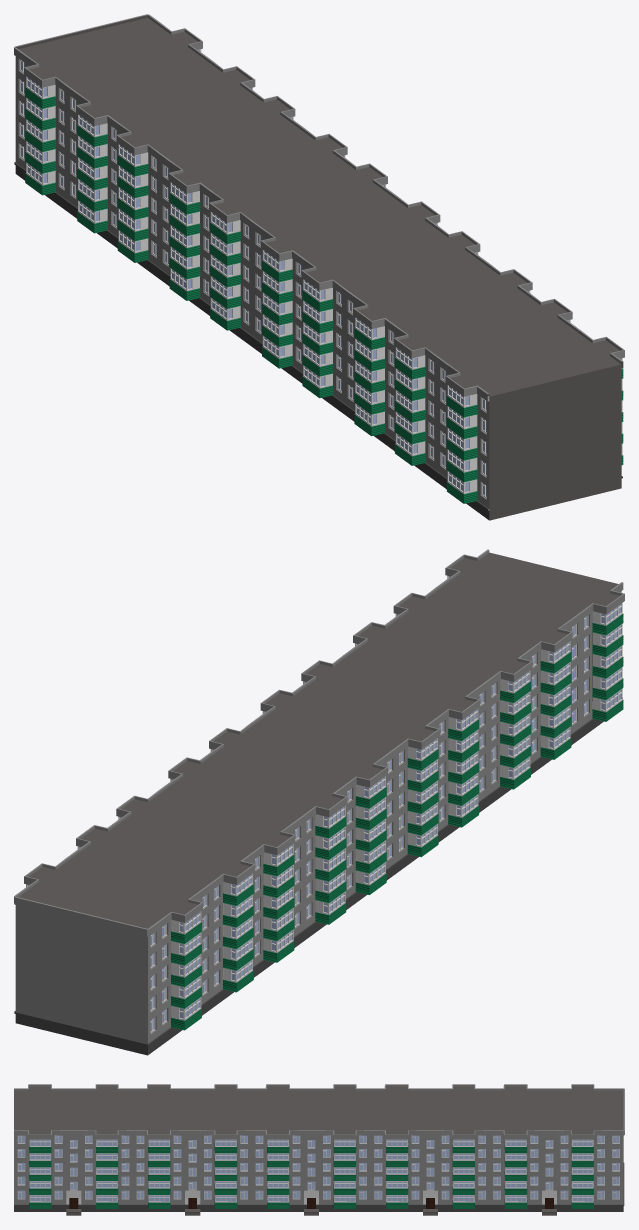
File: Дом 5 эт. вер. 1.fbx
3 views of the same model, one above another, from view 1: azimuth 30°, elevation 25°; view 2: azimuth 150°, elevation 25°; view 3: azimuth 270°, elevation 25° (orthographic). The views are drawn at different scales.
Parts seen in each view (by area): view 1: Cube.013; view 2: Cube.013; view 3: Cube.013.
Part boxes in pixels (x1,y1,x2,y2): Cube.013: [14, 14, 624, 520]; Cube.013: [14, 549, 624, 1055]; Cube.013: [14, 1084, 624, 1215].
Bounding box in the file's own units: 4087 × 3072 × 20872.
